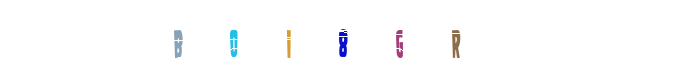8: (300, 0, 380, 80)
B: (193, 0, 273, 80)
G: (303, 0, 383, 80)
I: (267, 0, 347, 80)
O: (207, 0, 287, 80)
R: (390, 0, 470, 80)
